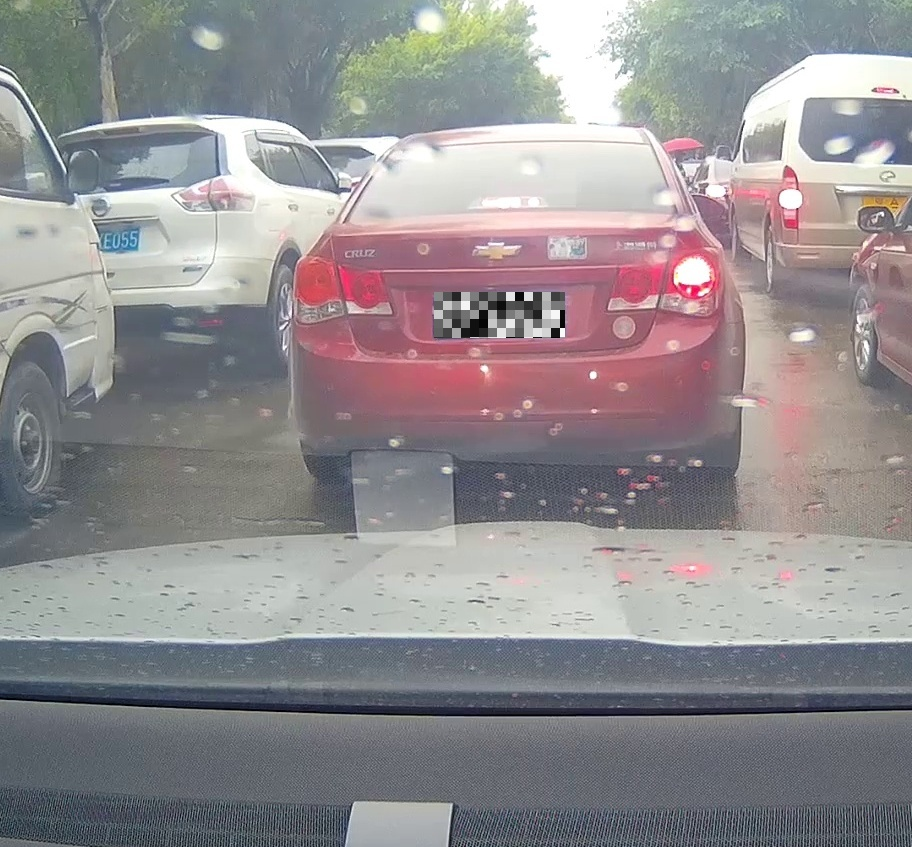L_light: (292, 255, 393, 324)
R_light: (606, 246, 726, 317)
T_light: (473, 196, 543, 208)
day-right: (290, 123, 746, 481)
plate_1: (434, 292, 565, 338)
